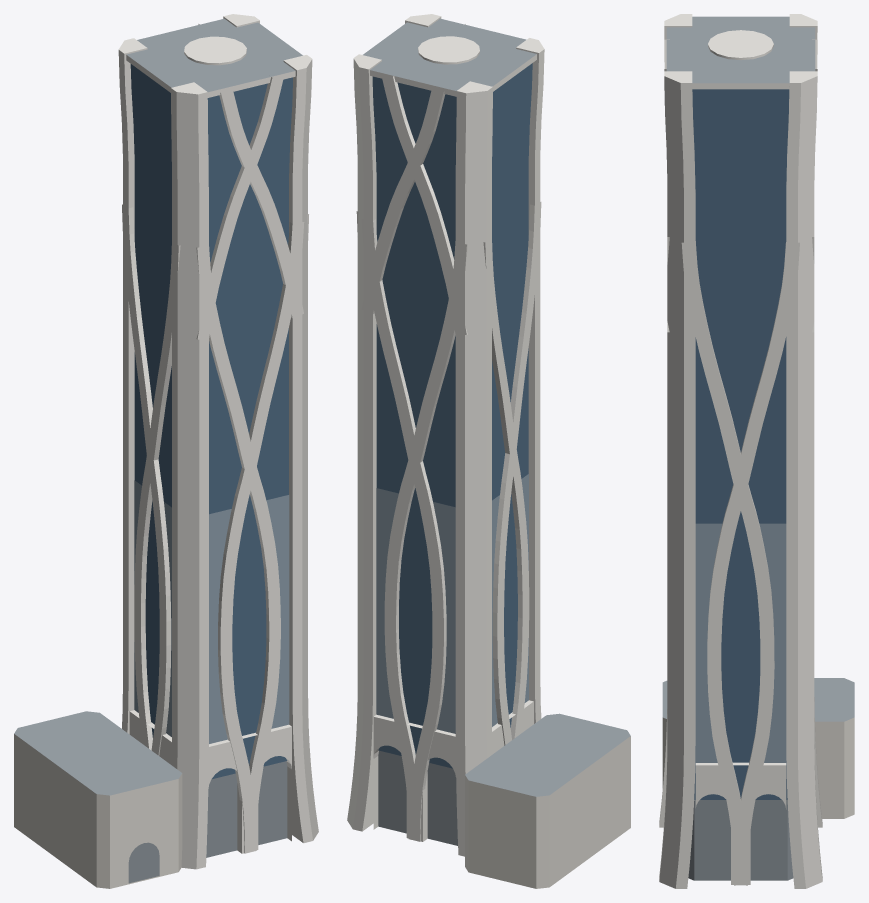
The model's file is mia-one-thousand-museum.glb.
3 views of the same model, side by side, from view 1: azimuth 30°, elevation 25°; view 2: azimuth 150°, elevation 25°; view 3: azimuth 270°, elevation 25° (orthographic). The views are drawn at different scales.
Visible parts, largest first — view 1: One Thousand Museum; view 2: One Thousand Museum; view 3: One Thousand Museum.
Boxes of the visible parts, box(x1,y1,x2,y2) form: One Thousand Museum: box(14, 14, 318, 888); One Thousand Museum: box(347, 14, 630, 888); One Thousand Museum: box(659, 14, 854, 888).
Bounding box in the file's own units: 65.2 × 216 × 47.4.
